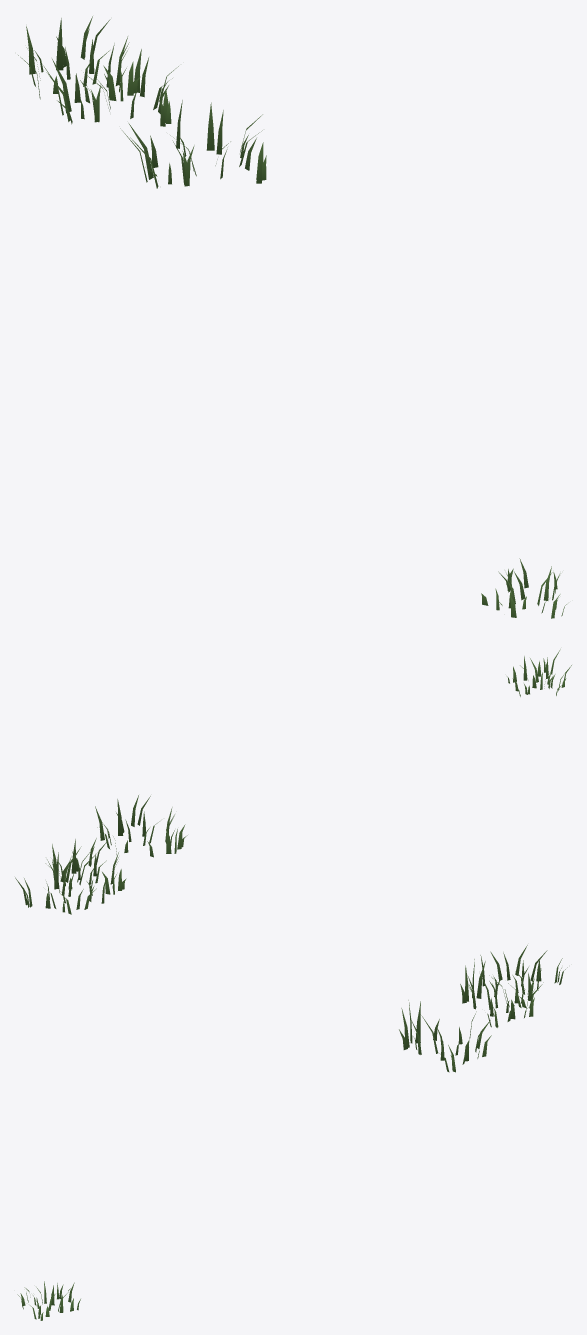
File: P2N_forest_grass_-7_7.glb
The picture shows the model from 3 angles, top to bottom: view 1: azimuth 30°, elevation 25°; view 2: azimuth 150°, elevation 25°; view 3: azimuth 330°, elevation 25°; orthographic projection. The views are drawn at different scales.
Parts seen in each view (by area): view 1: P2N_forest_grass_-7_7; view 2: P2N_forest_grass_-7_7; view 3: P2N_forest_grass_-7_7.
Boxes of the visible parts, <box> form: P2N_forest_grass_-7_7: <box>18,16,566,618</box>; P2N_forest_grass_-7_7: <box>15,649,571,914</box>; P2N_forest_grass_-7_7: <box>17,945,567,1320</box>.
Bounding box in the file's own units: 2.03 × 1.04 × 9.55.
